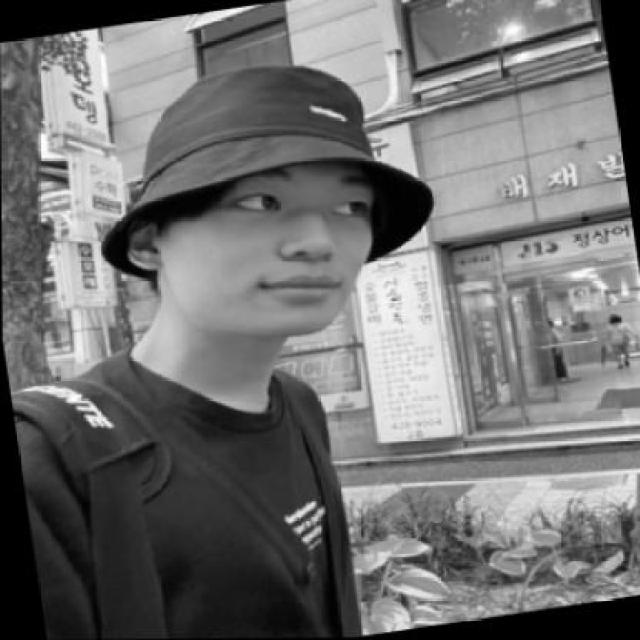hat: (72, 43, 436, 291)
